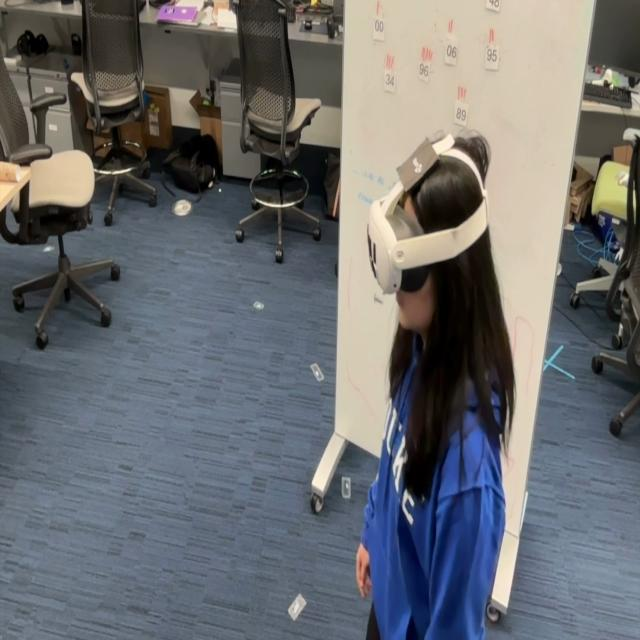Headset: (366, 130, 490, 295)
UnityLogo: (395, 133, 439, 194)
